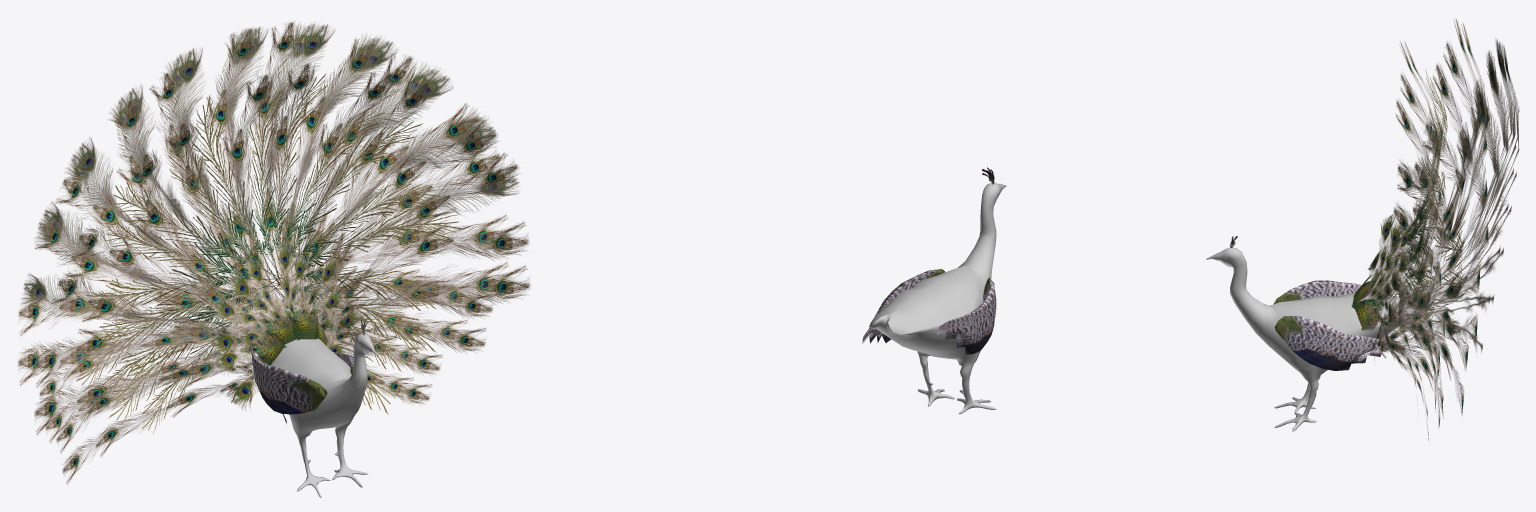
The model's file is peacock01.gltf.
The picture shows the model from 3 angles, left to right: view 1: azimuth 30°, elevation 25°; view 2: azimuth 150°, elevation 25°; view 3: azimuth 270°, elevation 25°; orthographic projection. The views are drawn at different scales.
Visible parts, largest first — view 1: polySurface61:PIV, polySurface80:PIV, pPlane40:PIV, polySurface91Shape, polySurface1, pPlane38:PIV, pPlane37:PIV, pCube3, pPlane24:PIV, pPlane20:PIV, pPlane25:PIV; view 2: polySurface1, pCube3, pCube1; view 3: polySurface80:PIV, polySurface61:PIV, polySurface1, polySurface91Shape, pPlane40:PIV, pCube1, pPlane38:PIV, pCube3, pPlane37:PIV, pPlane21.
Part boxes in pixels (x1=…): polySurface61:PIV: x1=34, y1=62, x2=530, y2=484; polySurface80:PIV: x1=17, y1=21, x2=511, y2=443; pPlane40:PIV: x1=76, y1=73, x2=464, y2=433; polySurface91Shape: x1=20, y1=21, x2=520, y2=324; polySurface1: x1=257, y1=316, x2=376, y2=497; pPlane38:PIV: x1=208, y1=241, x2=360, y2=410; pPlane37:PIV: x1=211, y1=253, x2=348, y2=376; pCube3: x1=250, y1=346, x2=327, y2=414; pPlane24:PIV: x1=292, y1=309, x2=317, y2=340; pPlane20:PIV: x1=256, y1=334, x2=286, y2=365; pPlane25:PIV: x1=267, y1=316, x2=296, y2=344; polySurface1: x1=869, y1=182, x2=1006, y2=414; pCube3: x1=937, y1=277, x2=996, y2=354; pCube1: x1=862, y1=269, x2=945, y2=343; polySurface80:PIV: x1=1396, y1=18, x2=1489, y2=428; polySurface61:PIV: x1=1372, y1=41, x2=1445, y2=440; polySurface1: x1=1206, y1=247, x2=1424, y2=431; polySurface91Shape: x1=1422, y1=38, x2=1519, y2=352; pPlane40:PIV: x1=1388, y1=69, x2=1462, y2=327; pCube1: x1=1274, y1=316, x2=1396, y2=370; pPlane38:PIV: x1=1368, y1=214, x2=1405, y2=354; pCube3: x1=1273, y1=280, x2=1391, y2=304; pPlane37:PIV: x1=1373, y1=224, x2=1413, y2=360; pPlane21: x1=1352, y1=299, x2=1378, y2=330.
Bounding box in the file's own units: 44.54 × 32.85 × 23.44.
